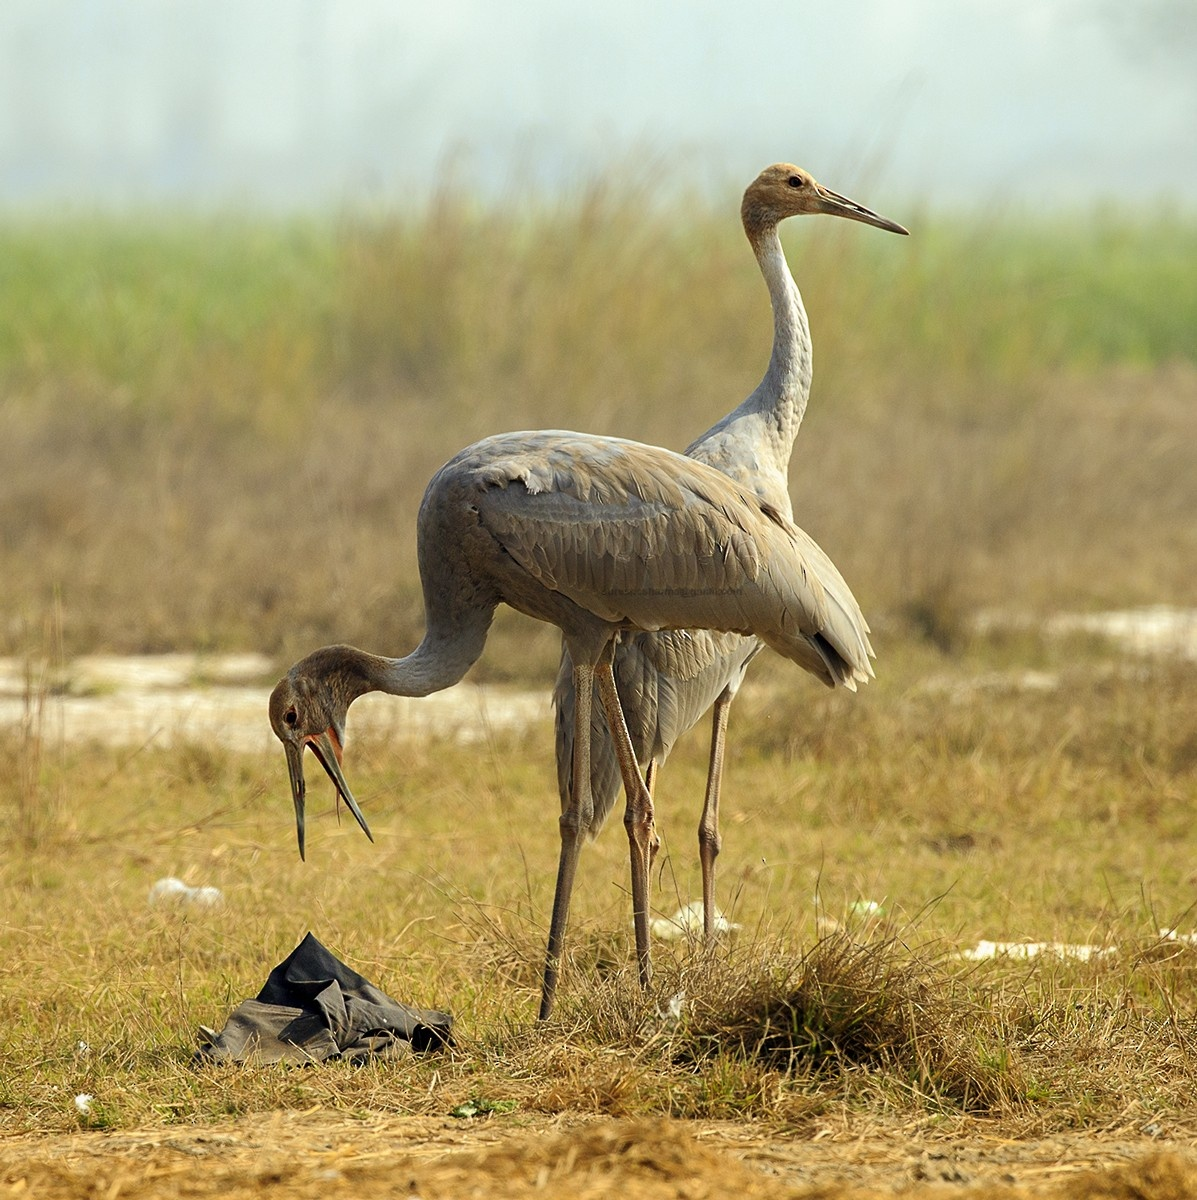crane: (261, 426, 884, 1021), (700, 160, 913, 475)
